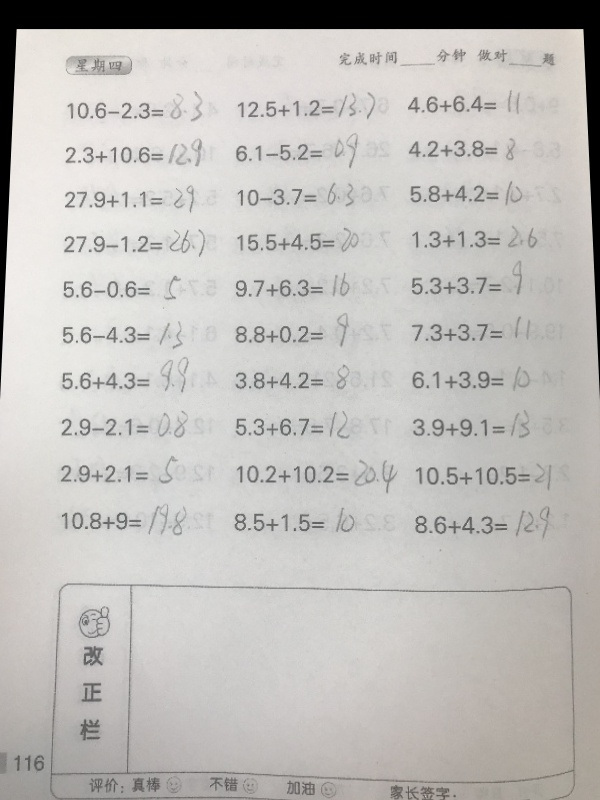equation: (230, 454, 409, 497), (409, 496, 553, 544), (231, 313, 373, 360), (414, 450, 556, 497), (409, 403, 539, 450), (232, 87, 386, 126), (231, 406, 393, 443), (406, 354, 535, 399), (407, 306, 535, 351), (54, 354, 189, 396), (410, 259, 536, 304), (57, 314, 191, 356), (232, 129, 362, 172), (229, 504, 393, 538), (58, 499, 196, 539), (64, 88, 207, 125), (60, 269, 192, 309), (60, 226, 210, 260), (62, 135, 205, 170), (61, 181, 198, 217), (233, 178, 389, 209), (231, 360, 379, 392), (58, 407, 193, 442), (231, 272, 363, 307), (410, 222, 540, 256), (57, 452, 181, 487), (403, 86, 537, 117), (234, 224, 362, 256), (408, 178, 533, 209), (404, 135, 529, 165)
